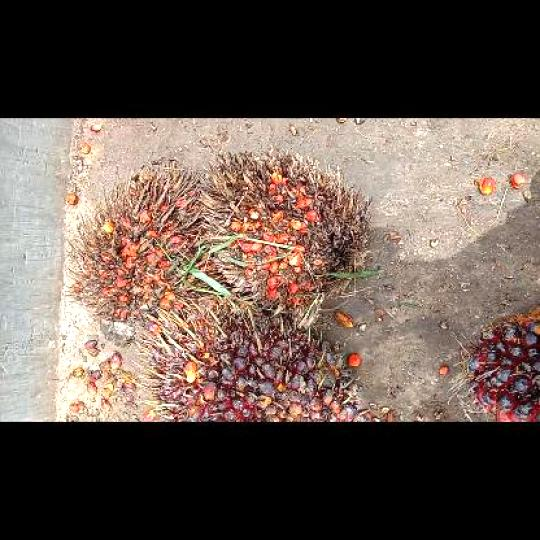masak: (131, 298, 373, 420)
terlalu masak: (191, 146, 372, 320), (65, 156, 210, 348)
